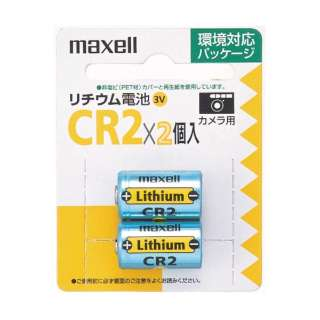Battery: (112, 168, 204, 221), (112, 222, 204, 270)
